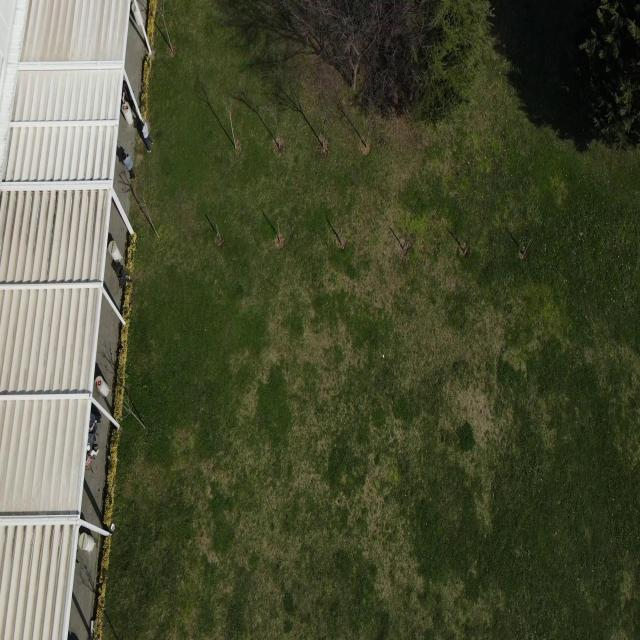p3rson: (141, 120, 154, 154), (122, 154, 137, 180)
